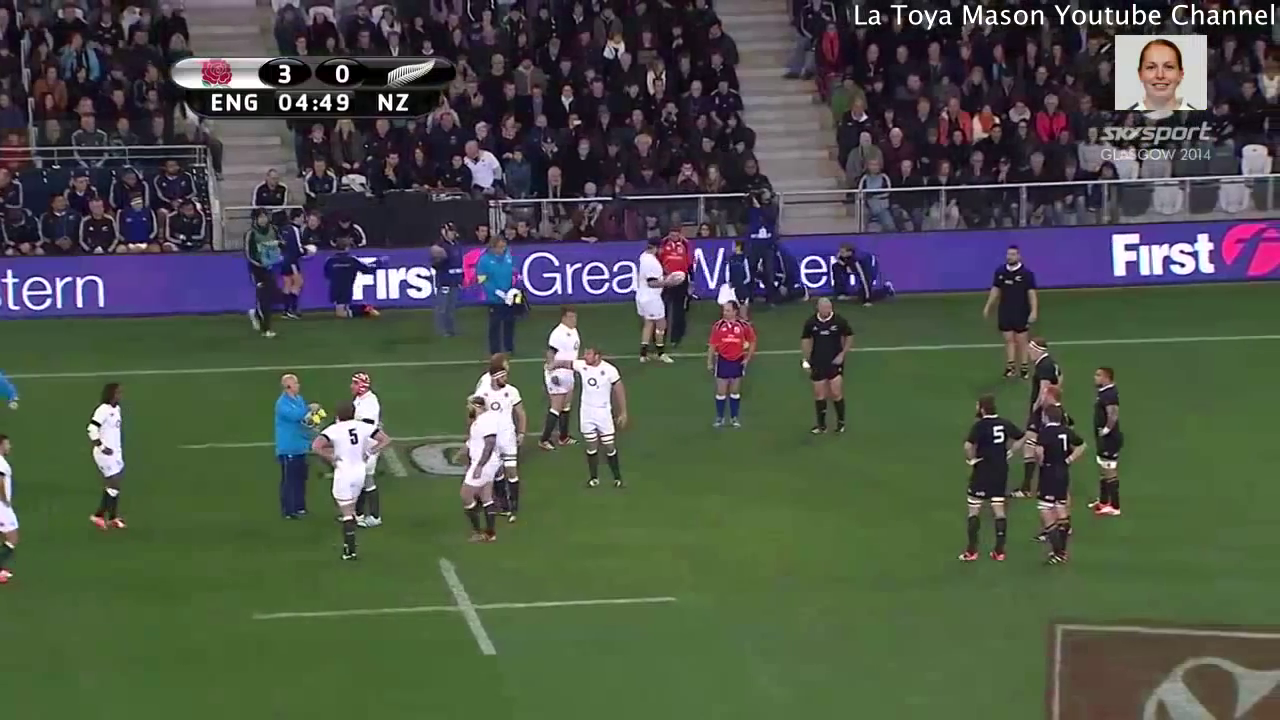10_metre: (245, 554, 696, 662), (178, 399, 573, 484)
ball: (667, 264, 689, 290)
player: (546, 345, 637, 495), (312, 403, 385, 566), (957, 392, 1017, 575), (1024, 402, 1090, 563), (77, 379, 139, 535), (267, 372, 325, 527), (980, 240, 1042, 384), (793, 292, 853, 438), (477, 367, 529, 525), (533, 301, 583, 455), (455, 393, 504, 547), (1084, 362, 1130, 525), (707, 296, 759, 434), (633, 236, 681, 369), (653, 234, 690, 344), (1, 432, 25, 589), (1023, 339, 1063, 404), (344, 368, 387, 424)
